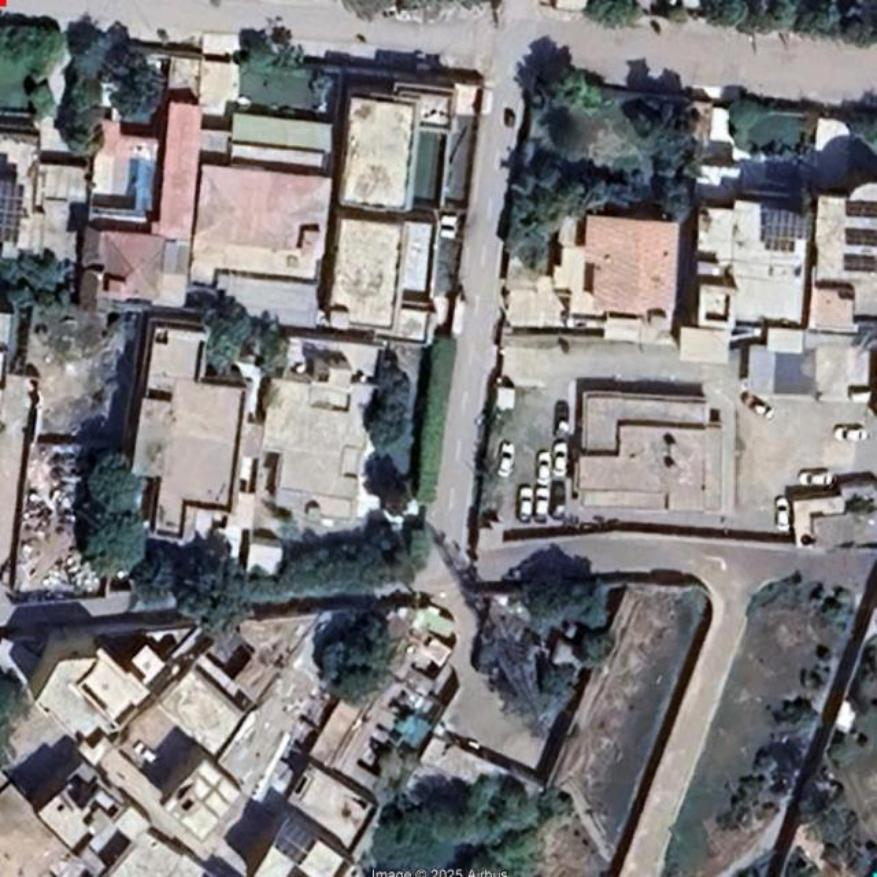Solarpanel: (273, 822, 317, 863), (0, 181, 26, 246), (764, 207, 811, 237), (844, 229, 876, 245), (844, 200, 876, 215), (844, 253, 875, 268)
